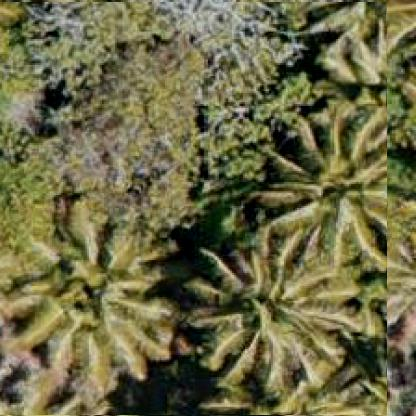coconut tree: (0, 1, 388, 415)
